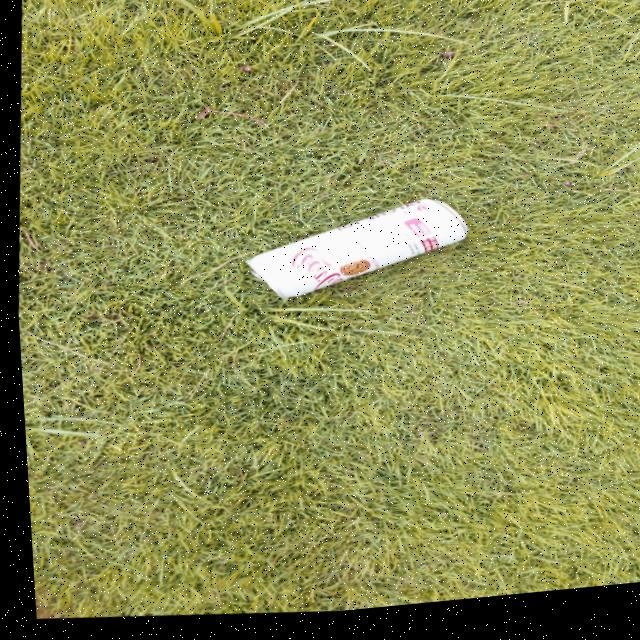Coca Cola Plus: (220, 180, 473, 329)
